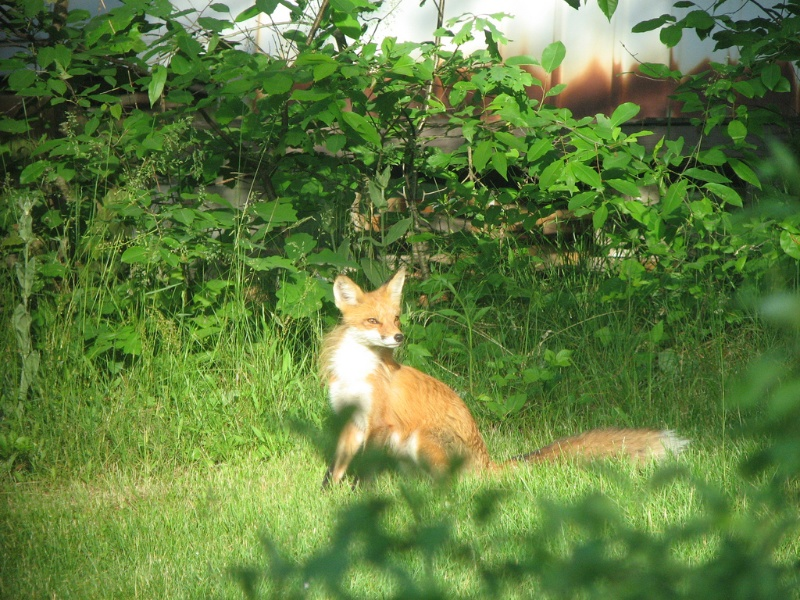fox: (314, 276, 690, 486)
